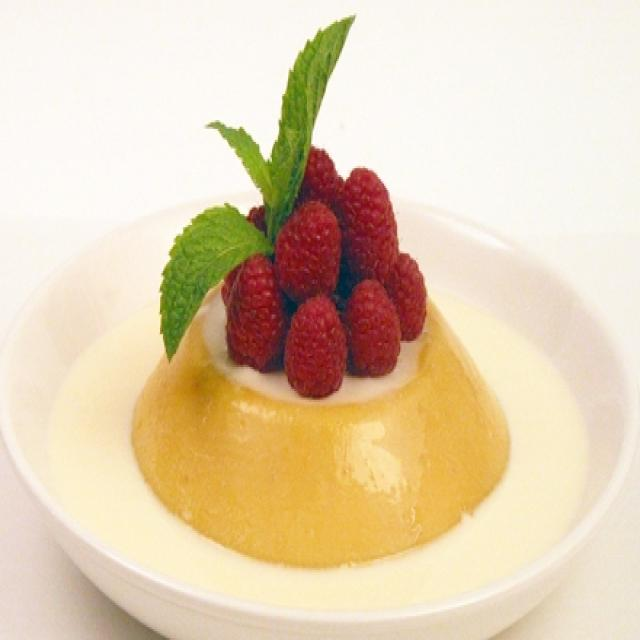蛋糕甜品: (17, 31, 630, 629)
